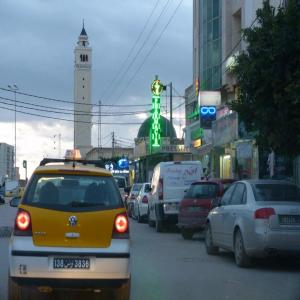Vehicle-registration-plate: (55, 258, 91, 270), (281, 217, 300, 226), (167, 206, 180, 212)
